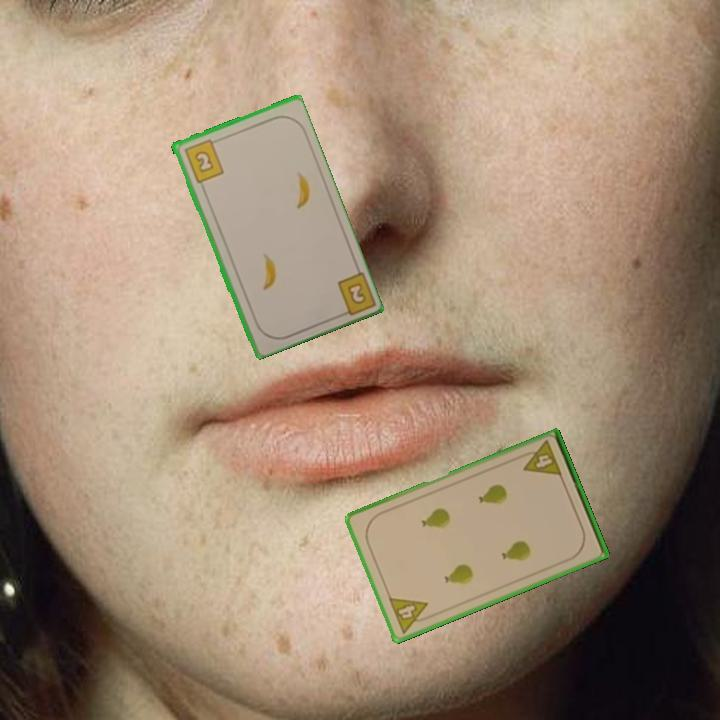2b: (333, 267, 376, 320), (180, 136, 226, 185)
4p: (385, 594, 435, 636), (516, 437, 564, 480)
